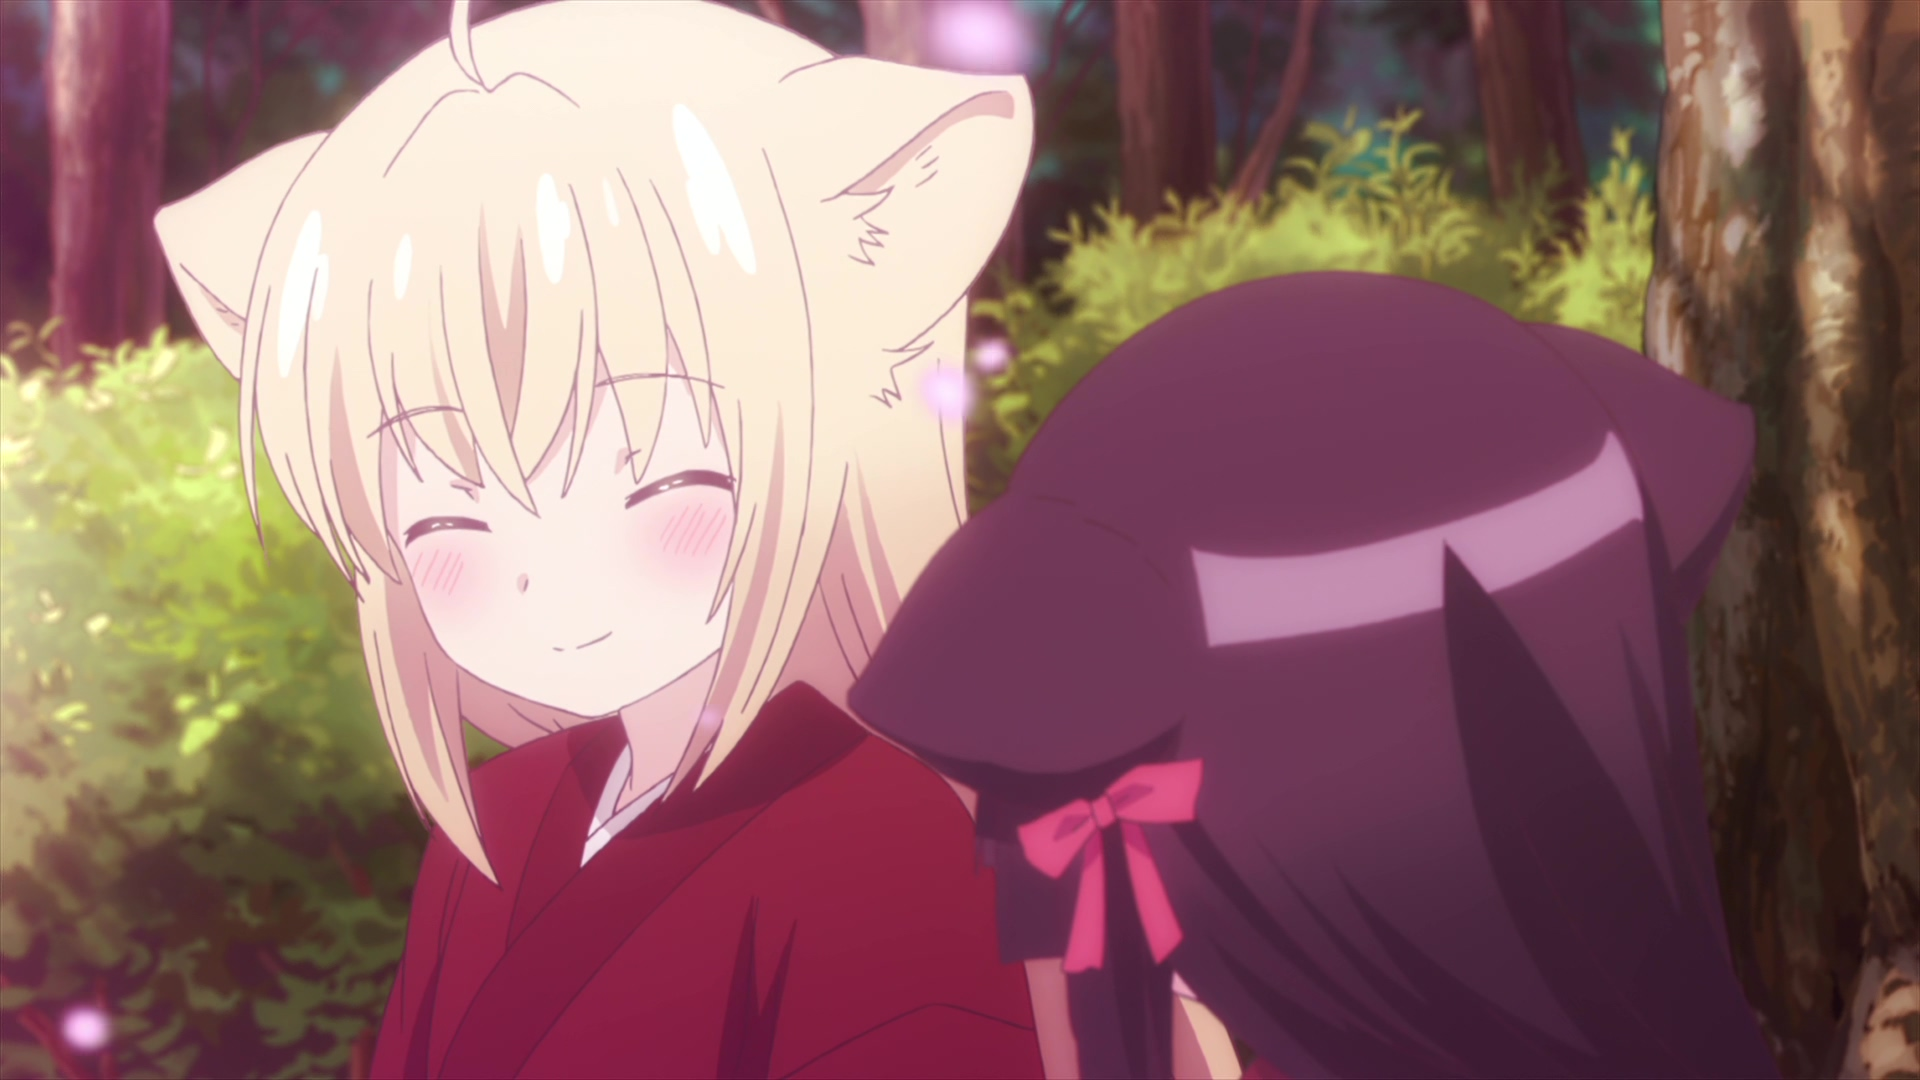柚: (152, 1, 1044, 1080)
樱: (848, 272, 1763, 1080)
